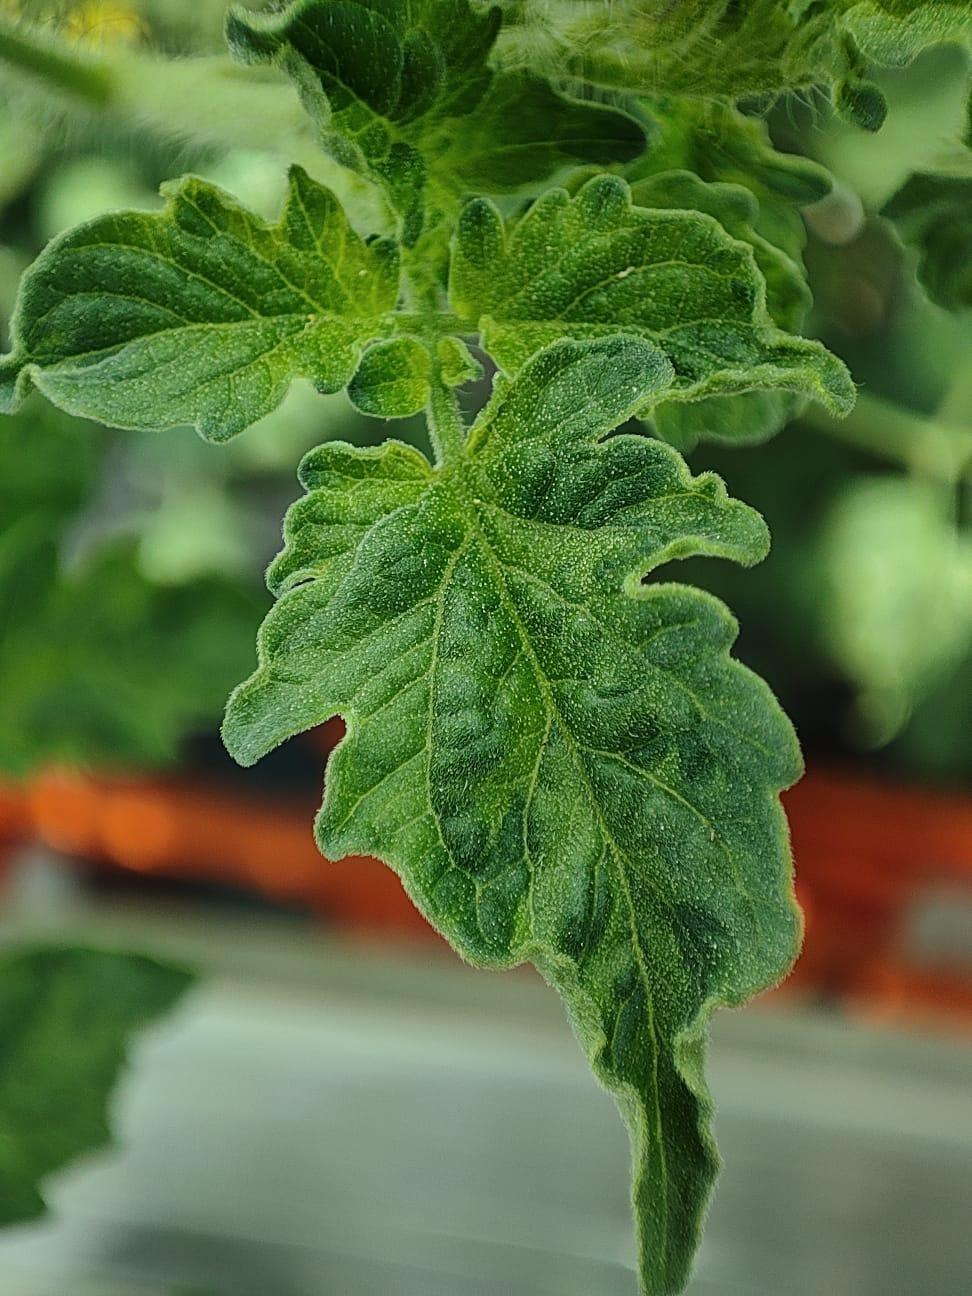Hoja rugoso: (223, 337, 799, 1296), (2, 167, 397, 441), (448, 175, 853, 412)
